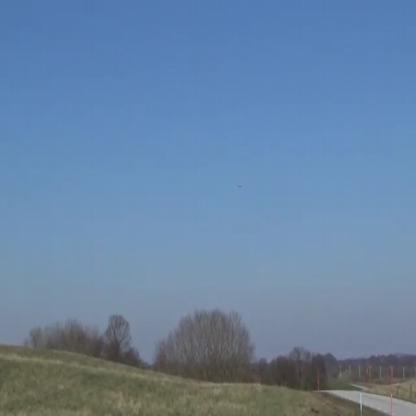CIV_Plane: (234, 180, 246, 192)
